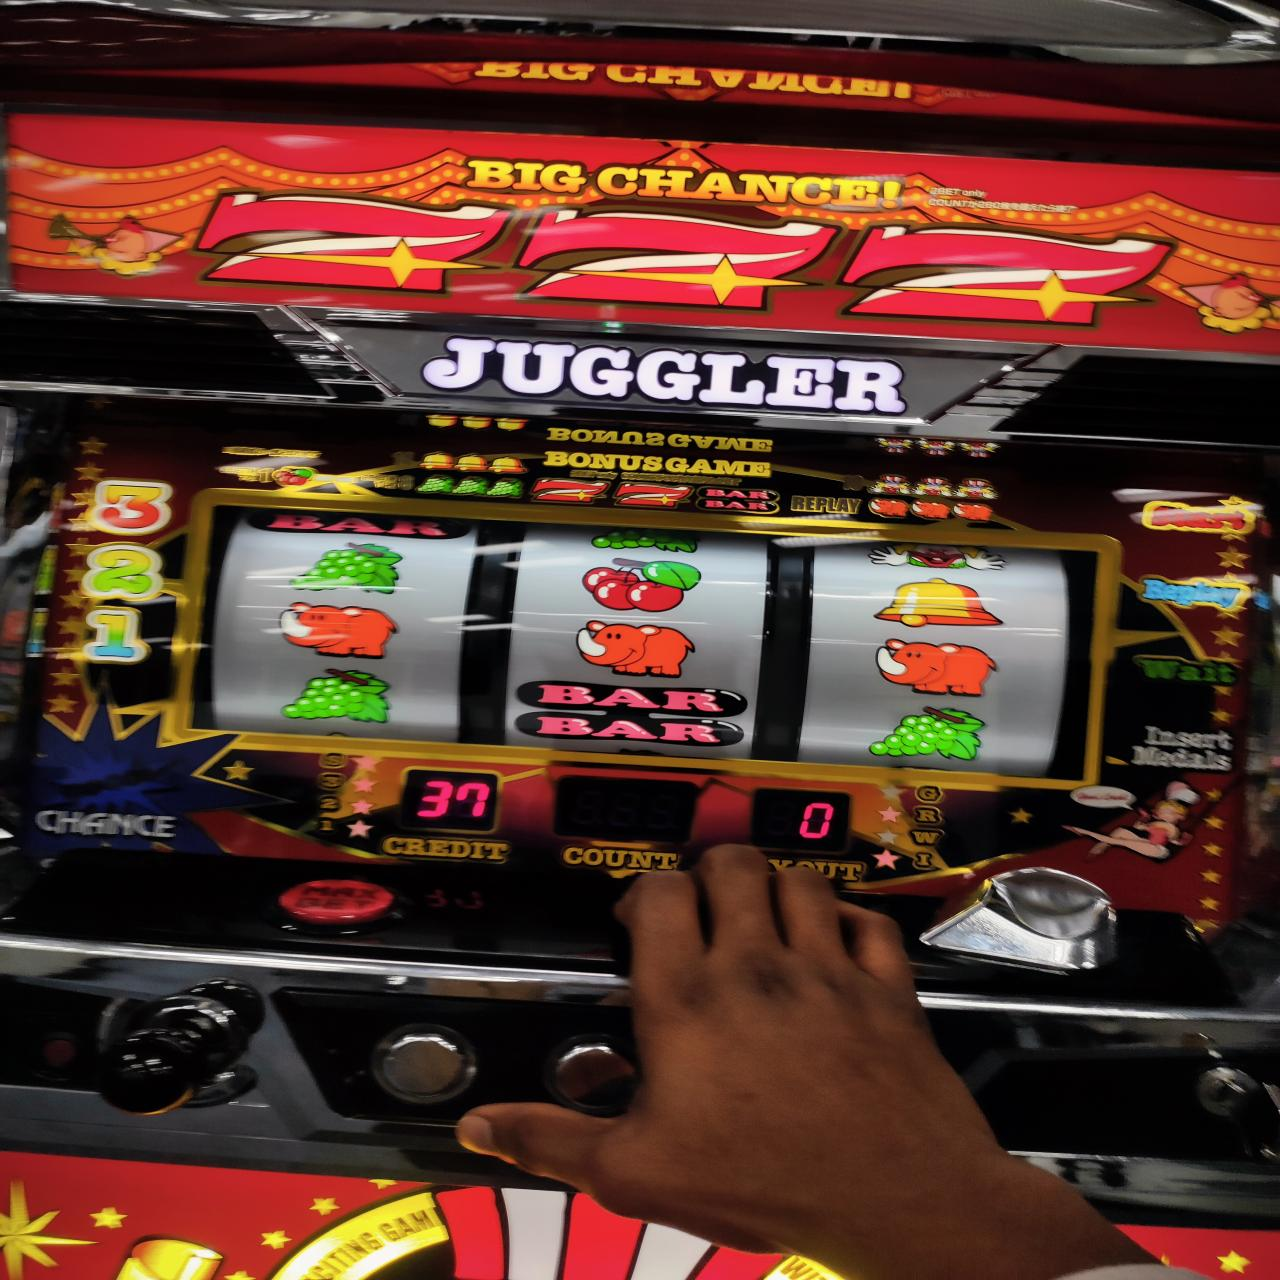8: (871, 638, 1002, 700), (278, 600, 397, 656), (576, 620, 696, 675)
Display: (199, 499, 1104, 782)
bar: (516, 682, 750, 749)
bell: (871, 577, 1009, 627)
cherry: (579, 557, 703, 614)
grape: (866, 706, 990, 764), (279, 665, 389, 726), (291, 543, 402, 594)
